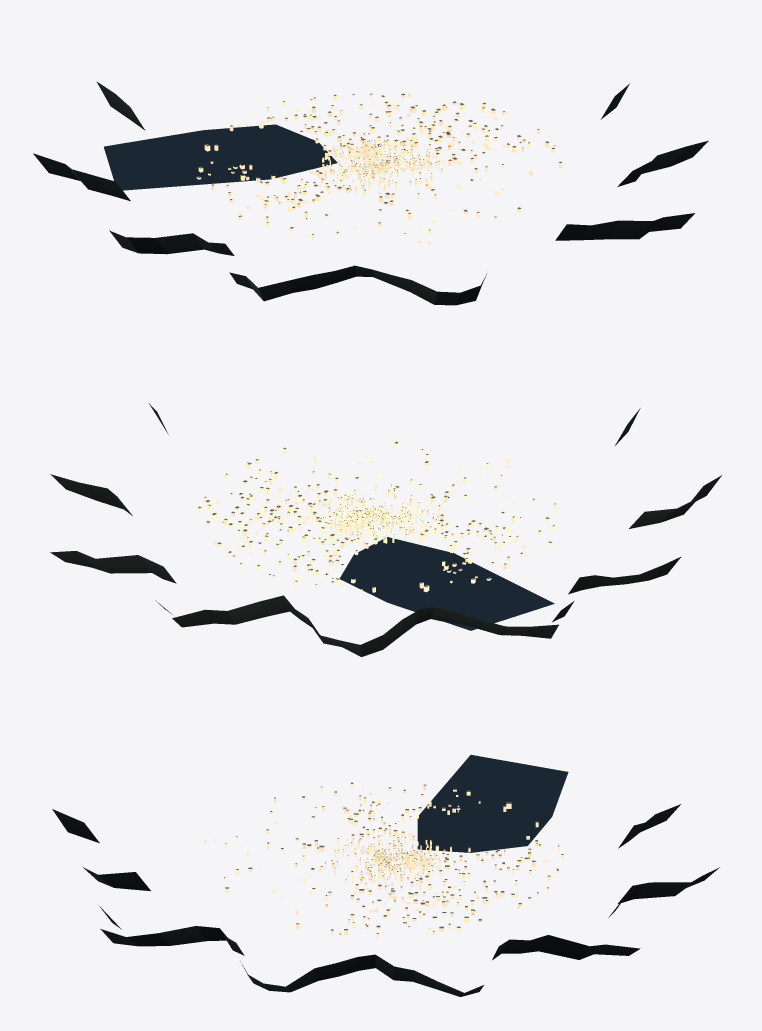
3 views of the same model, one above another, from view 1: azimuth 30°, elevation 25°; view 2: azimuth 150°, elevation 25°; view 3: azimuth 270°, elevation 25° (orthographic).
Parts seen in each view (by area): view 1: WATER, HILLS, CITY_FAR, CITY_MID; view 2: WATER, HILLS, CITY_FAR, CITY_MID; view 3: WATER, HILLS, CITY_FAR, CITY_MID.
Part boxes in pixels (<box>): WATER: <box>104,124,337,190</box>; HILLS: <box>33,81,708,305</box>; CITY_FAR: <box>196,93,562,244</box>; CITY_MID: <box>321,139,442,195</box>; WATER: <box>339,537,554,630</box>; HILLS: <box>50,403,721,656</box>; CITY_FAR: <box>197,441,556,592</box>; CITY_MID: <box>320,484,440,543</box>; WATER: <box>417,755,568,852</box>; HILLS: <box>52,804,719,996</box>; CITY_FAR: <box>204,782,563,937</box>; CITY_MID: <box>324,829,440,887</box>.
Size of what is drawn, in the model's own units: 18000 by 625 by 18000.
Materials: 63 (34 with a texture image).
